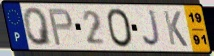2: (82, 9, 107, 46)
J: (142, 9, 163, 49)
K: (162, 9, 190, 49)
O: (105, 7, 135, 49)
P: (47, 7, 74, 47)
Q: (21, 6, 54, 47)
